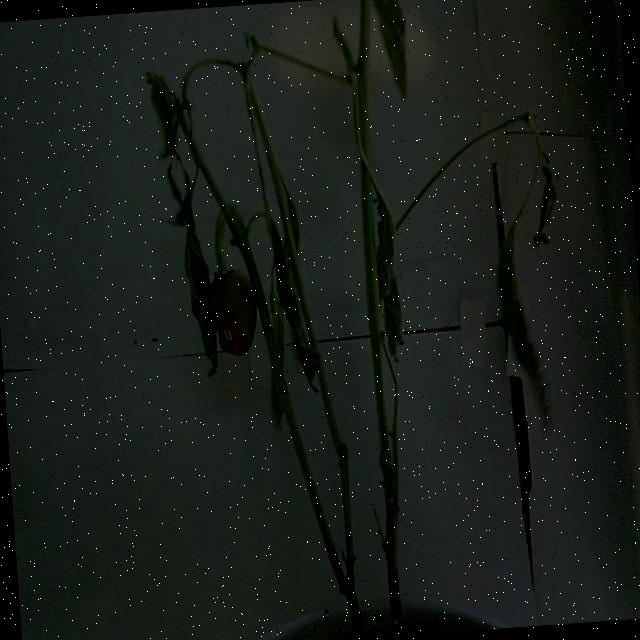Leaf: (254, 185, 325, 428), (492, 233, 554, 428), (180, 219, 217, 370), (370, 198, 404, 356), (527, 152, 562, 246)
